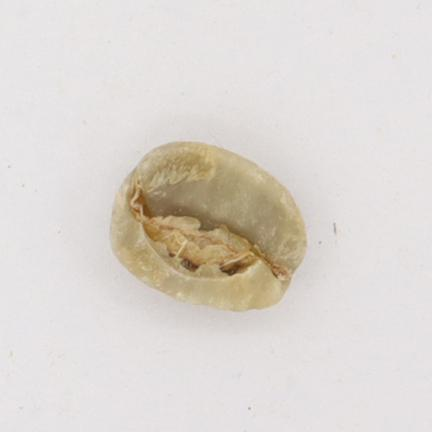immature: (111, 143, 306, 311)
